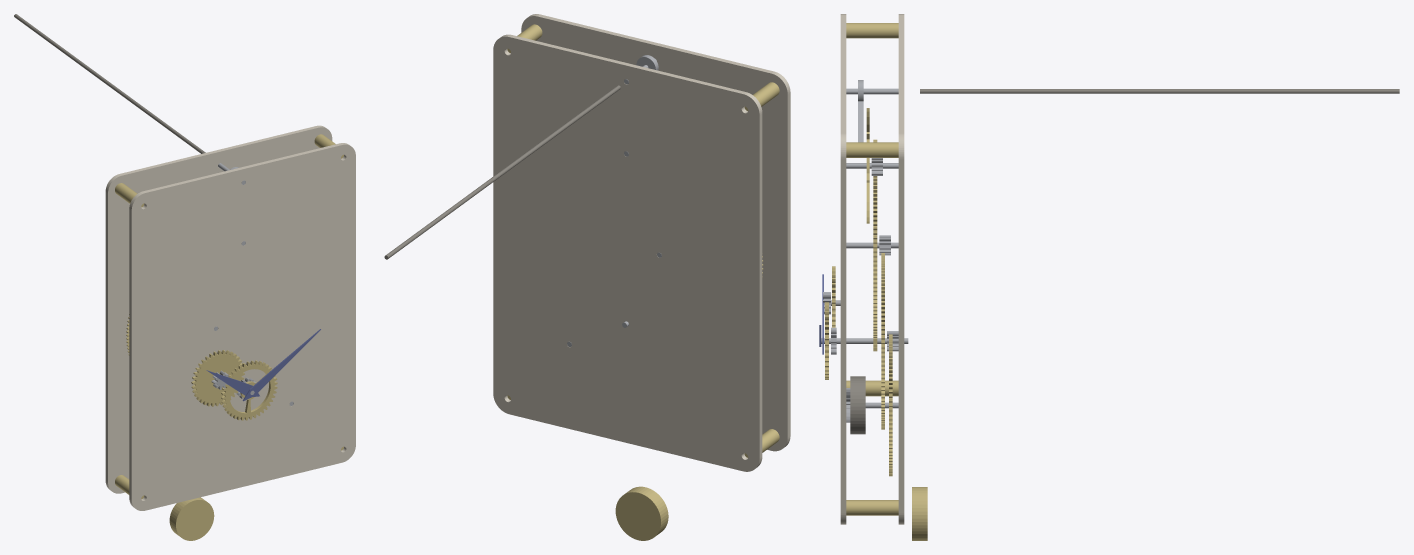
Rendered from movement.glb.
3 views of the same model, side by side, from view 1: azimuth 30°, elevation 25°; view 2: azimuth 150°, elevation 25°; view 3: azimuth 270°, elevation 25° (orthographic). The views are drawn at different scales.
Visible parts, largest first — view 1: geometry_13, geometry_12, geometry_9, geometry_29, geometry_11, geometry_28, geometry_27; view 2: geometry_12, geometry_13, geometry_29, geometry_28; view 3: geometry_12, geometry_13, geometry_28, geometry_24, geometry_4, geometry_29, geometry_15, geometry_16, geometry_17, geometry_3.
Part boxes in pixels (bbox=[...]): geometry_13: bbox=[129, 143, 355, 510]; geometry_12: bbox=[105, 125, 332, 493]; geometry_9: bbox=[191, 350, 244, 406]; geometry_29: bbox=[169, 497, 214, 540]; geometry_11: bbox=[221, 360, 277, 420]; geometry_28: bbox=[14, 14, 205, 153]; geometry_27: bbox=[242, 329, 320, 401]; geometry_12: bbox=[493, 34, 762, 471]; geometry_13: bbox=[521, 14, 790, 451]; geometry_29: bbox=[615, 486, 668, 540]; geometry_28: bbox=[384, 85, 620, 259]; geometry_12: bbox=[898, 14, 904, 524]; geometry_13: bbox=[840, 14, 846, 524]; geometry_28: bbox=[920, 89, 1399, 93]; geometry_24: bbox=[850, 376, 865, 434]; geometry_4: bbox=[873, 139, 877, 351]; geometry_29: bbox=[912, 487, 927, 540]; geometry_15: bbox=[846, 500, 898, 515]; geometry_16: bbox=[846, 23, 898, 38]; geometry_17: bbox=[846, 142, 898, 157]; geometry_3: bbox=[881, 253, 884, 429].
Bounding box in the file's own units: 164 × 271 × 300.
